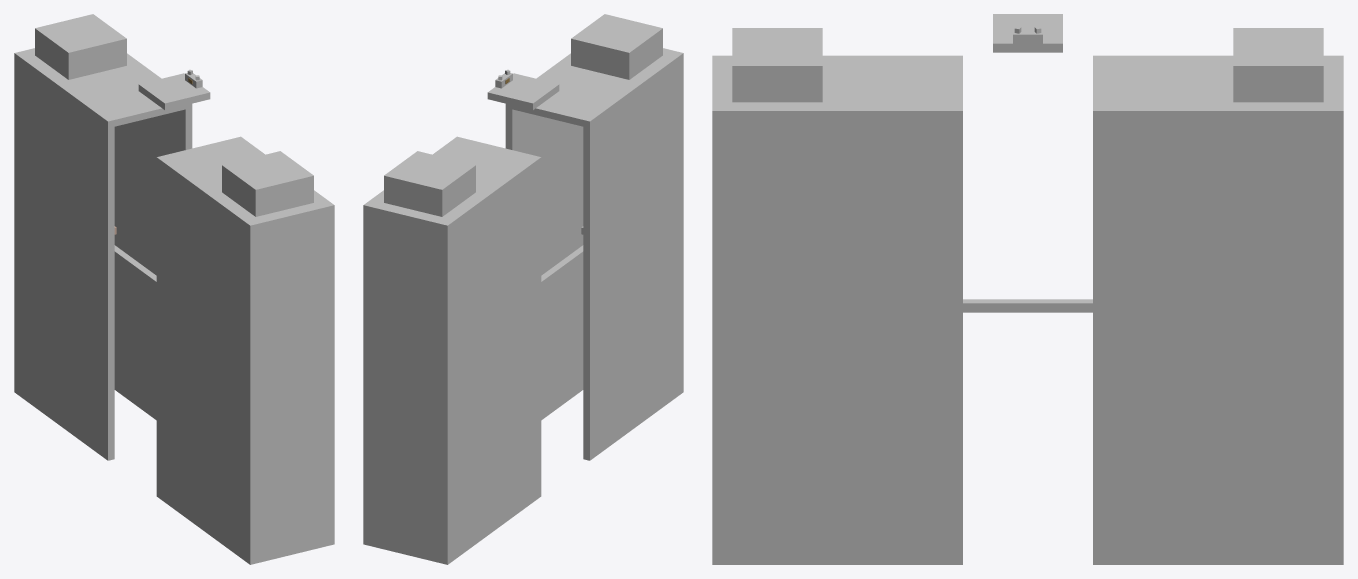
The model's file is minecraft.obj.
3 views of the same model, side by side, from view 1: azimuth 30°, elevation 25°; view 2: azimuth 150°, elevation 25°; view 3: azimuth 270°, elevation 25° (orthographic). The views are drawn at different scales.
Bounding box in the file's own units: 13 × 57.5 × 63.
